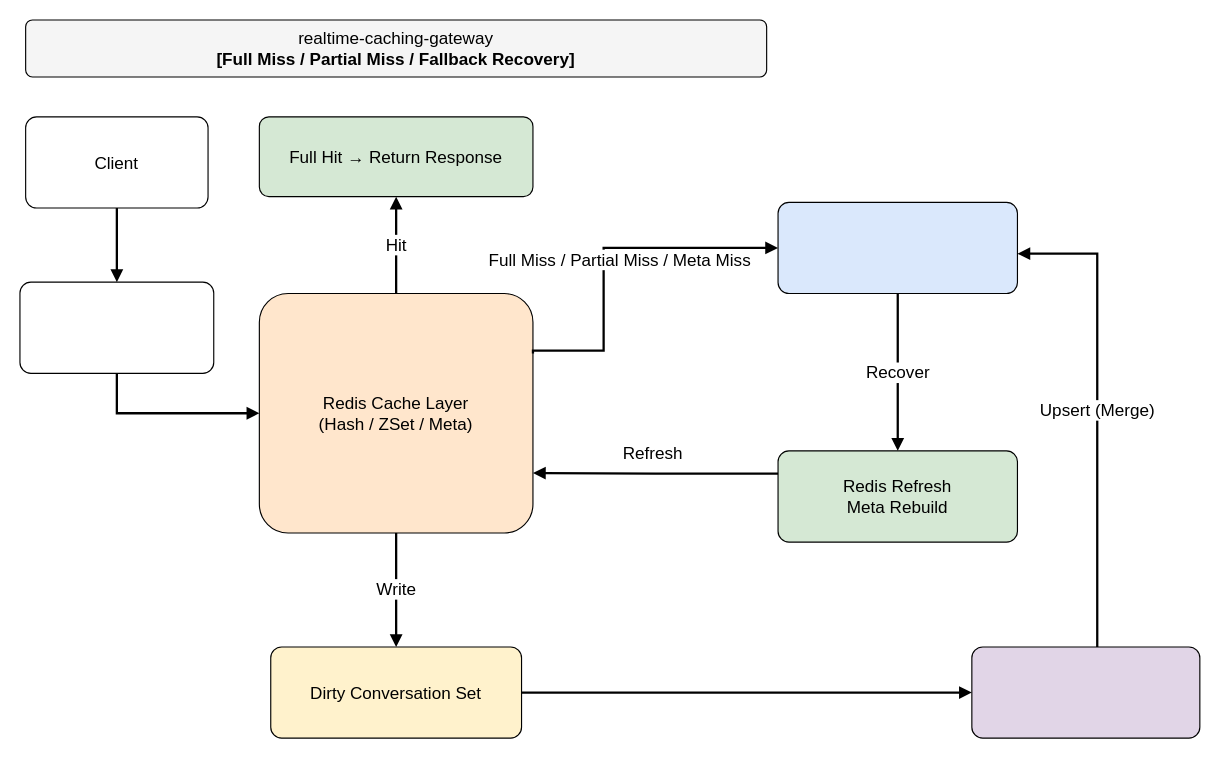
This 1220x758 diagram has some shape labels left out. Here are the shapes that lost their labels. From the top down, the centre of each, then its label:
At pixel 897 247: "PostgreSQL Fallback".
At pixel 116 327: "Query API".
At pixel 1085 692: "Sync Scheduler".
